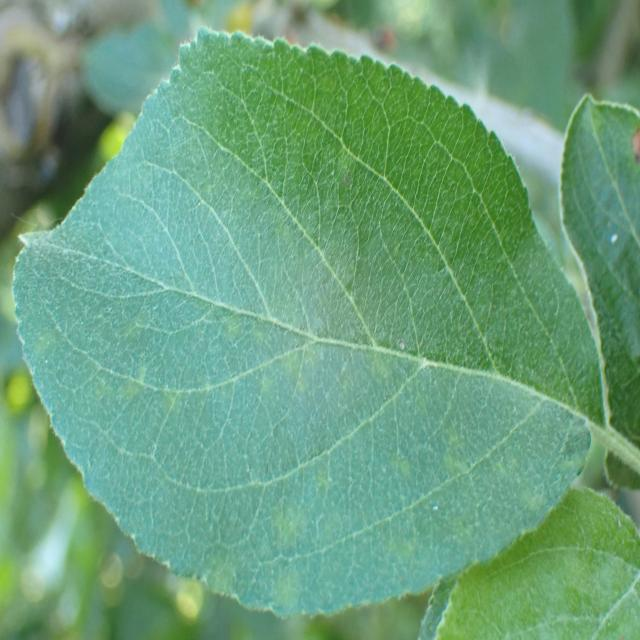scab: (55, 184, 584, 538)
